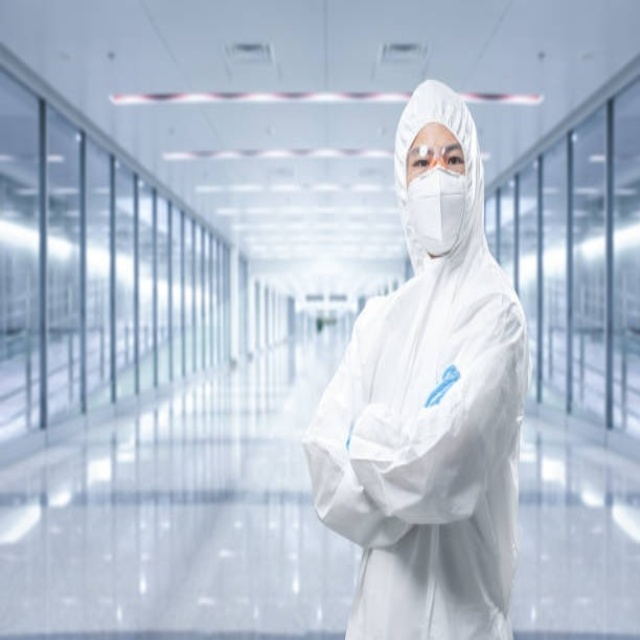Gafas: (407, 143, 465, 176)
Mascara: (405, 165, 468, 255)
